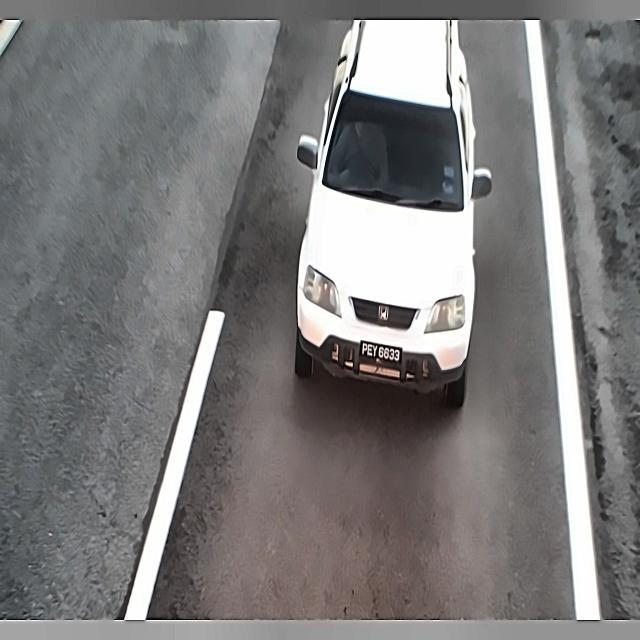car: (355, 330, 412, 369)
